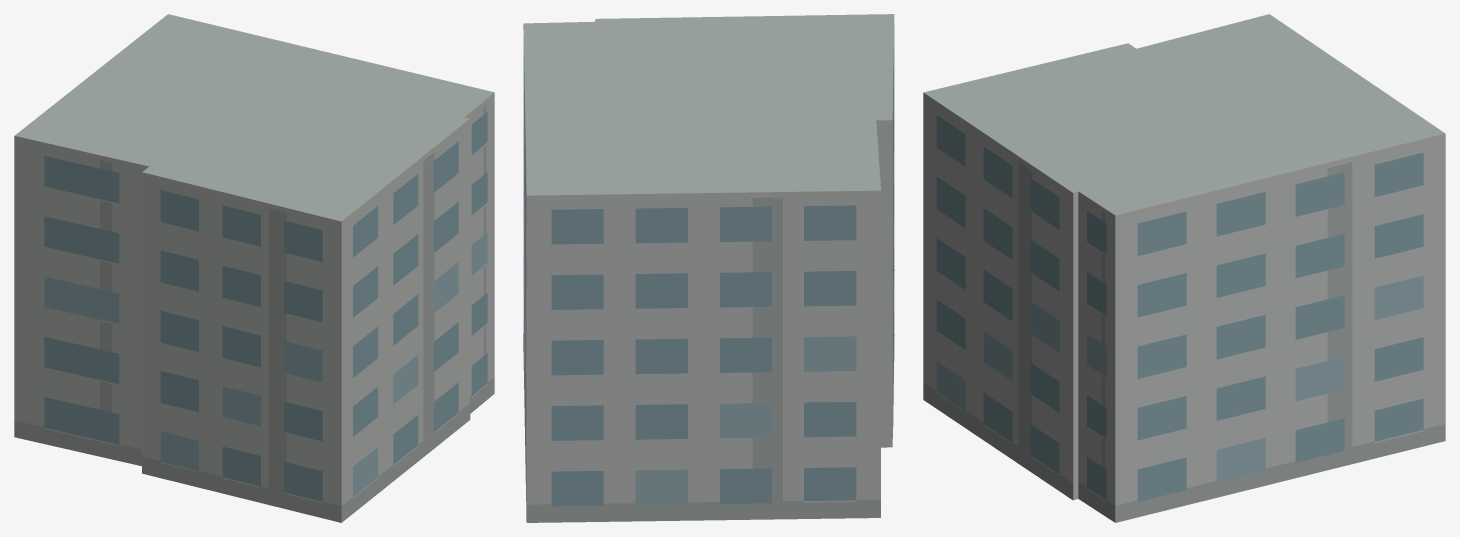
File: survey-upis-32841549.glb
The picture shows the model from 3 angles, left to right: view 1: azimuth 30°, elevation 25°; view 2: azimuth 150°, elevation 25°; view 3: azimuth 270°, elevation 25°; orthographic projection. The views are drawn at different scales.
Visible parts, largest first — view 1: survey-upis-32841549.tmp; view 2: survey-upis-32841549.tmp; view 3: survey-upis-32841549.tmp.
Part boxes in pixels (<box>): survey-upis-32841549.tmp: <box>14,14,494,522</box>; survey-upis-32841549.tmp: <box>523,14,894,522</box>; survey-upis-32841549.tmp: <box>923,14,1445,522</box>.
Size of the model in its own units: 20.1 by 14.3 by 22.02.
